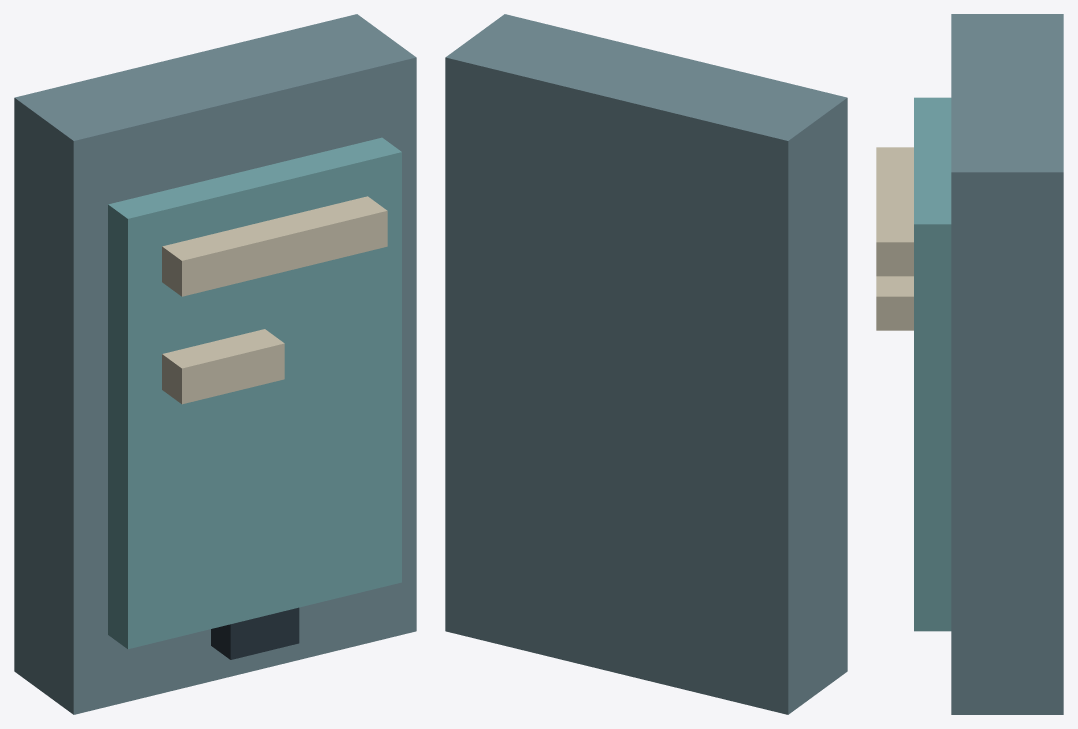
File: telecom-05.glb
3 views of the same model, side by side, from view 1: azimuth 30°, elevation 25°; view 2: azimuth 150°, elevation 25°; view 3: azimuth 270°, elevation 25° (orthographic). The views are drawn at different scales.
Visible parts, largest first — view 1: Desk phone; view 2: Desk phone; view 3: Desk phone.
Boxes of the visible parts, left/top/right/bottom form: Desk phone: left=14, top=14, right=416, bottom=714; Desk phone: left=445, top=14, right=847, bottom=714; Desk phone: left=876, top=14, right=1063, bottom=714.
Size of the model in its own units: 0.8 by 1.28 by 0.4.
